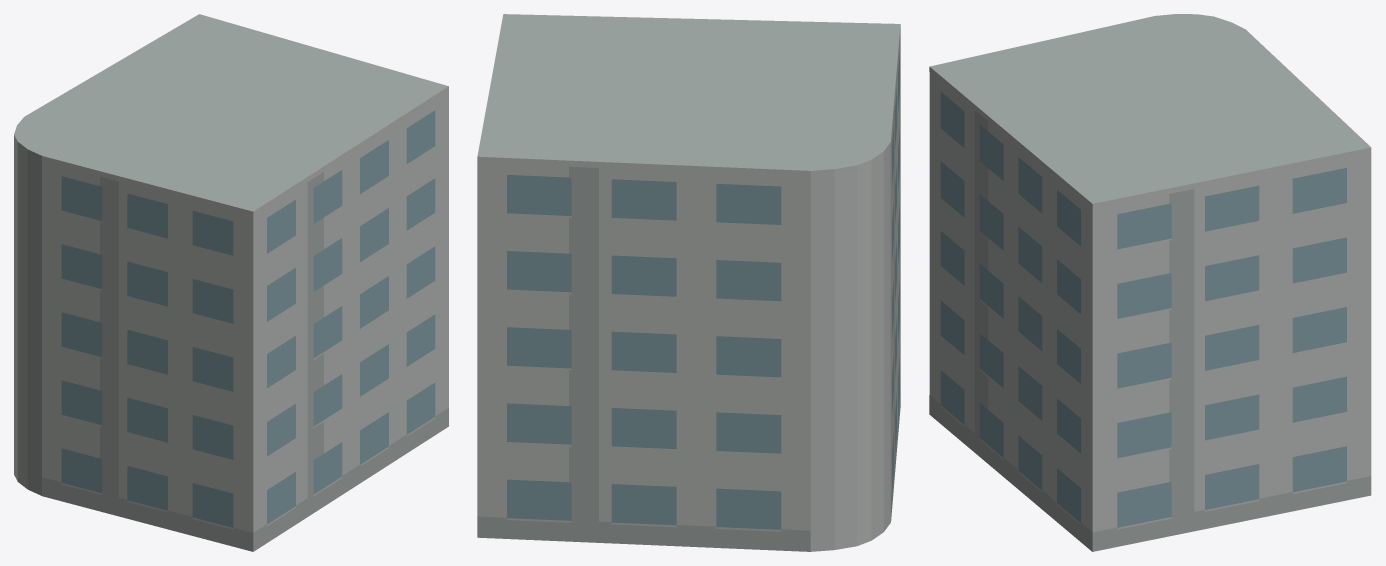
Rendered from survey-upis-32740872.glb.
3 renders of one model, left to right at view 1: azimuth 30°, elevation 25°; view 2: azimuth 150°, elevation 25°; view 3: azimuth 270°, elevation 25°, orthographic. The views are drawn at different scales.
Parts seen in each view (by area): view 1: survey-upis-32740872.tmp; view 2: survey-upis-32740872.tmp; view 3: survey-upis-32740872.tmp.
Boxes of the visible parts, x1=… form: survey-upis-32740872.tmp: x1=14, y1=14, x2=448, y2=551; survey-upis-32740872.tmp: x1=477, y1=14, x2=900, y2=551; survey-upis-32740872.tmp: x1=929, y1=14, x2=1371, y2=551.
Size of the model in its own units: 17.85 by 15.25 by 17.55.
